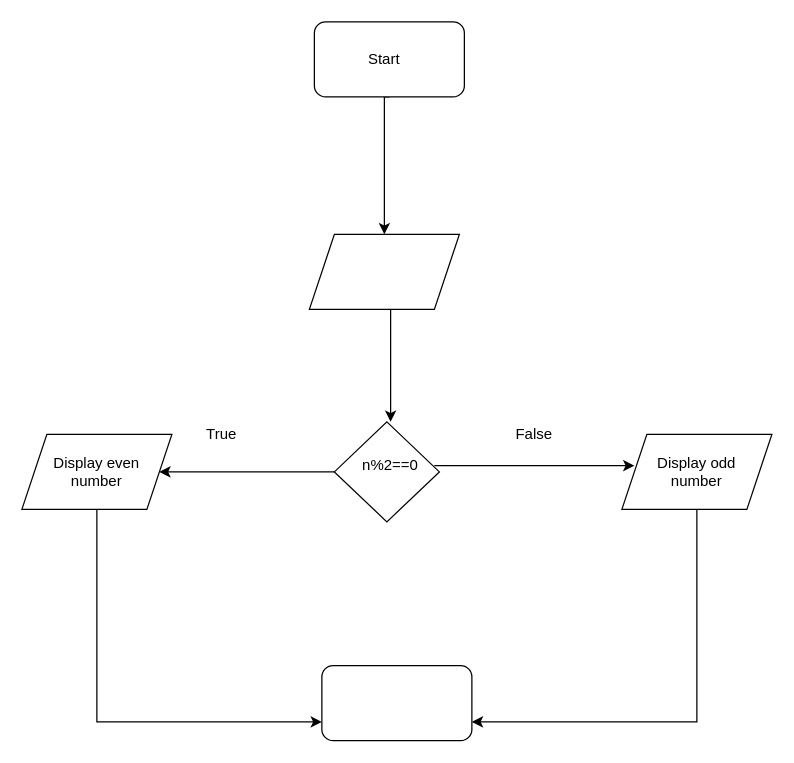
Image size: 794x763. Some labels were removed from this diagram. Each missing label, with the box of its shape:
End: (321, 664, 472, 741)
İnput n: (308, 233, 459, 309)
